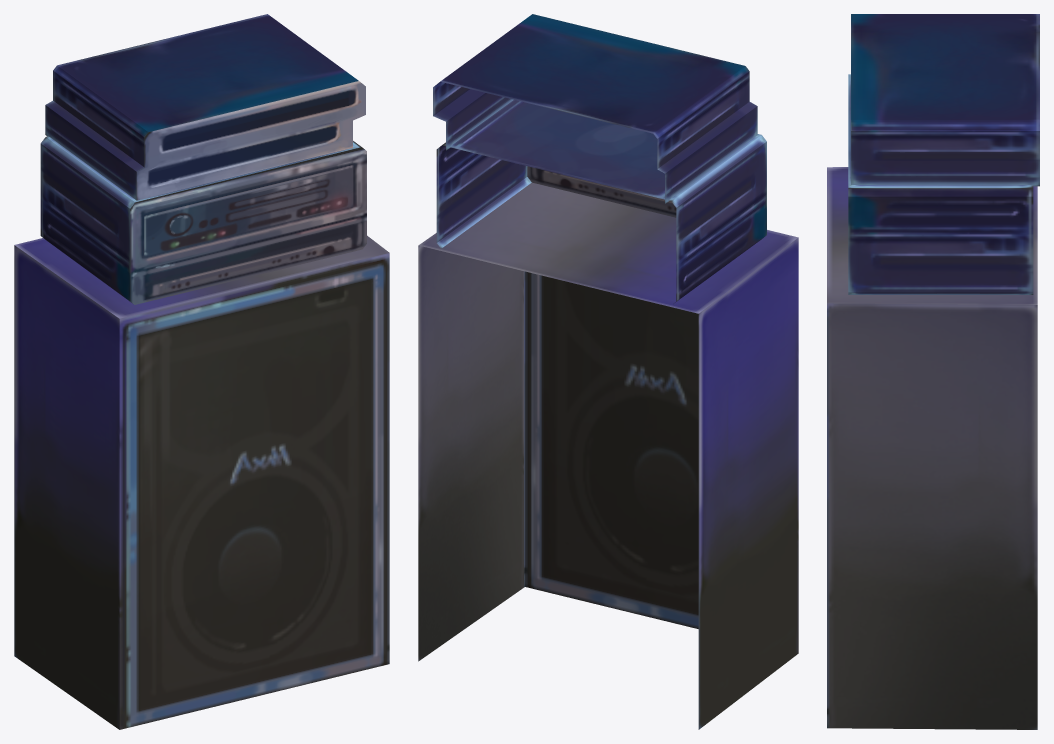
The model's file is Julebu_YinXiang2_fbx.FBX.
The picture shows the model from 3 angles, left to right: view 1: azimuth 30°, elevation 25°; view 2: azimuth 150°, elevation 25°; view 3: azimuth 270°, elevation 25°; orthographic projection. The views are drawn at different scales.
Visible parts, largest first — view 1: Object069; view 2: Object069; view 3: Object069.
Part boxes in pixels (x1,y1,x2,y2): Object069: (14,14,389,729); Object069: (418,14,798,729); Object069: (827,14,1039,729).
Bounding box in the file's own units: 0.6933 × 1.39 × 0.4469.
